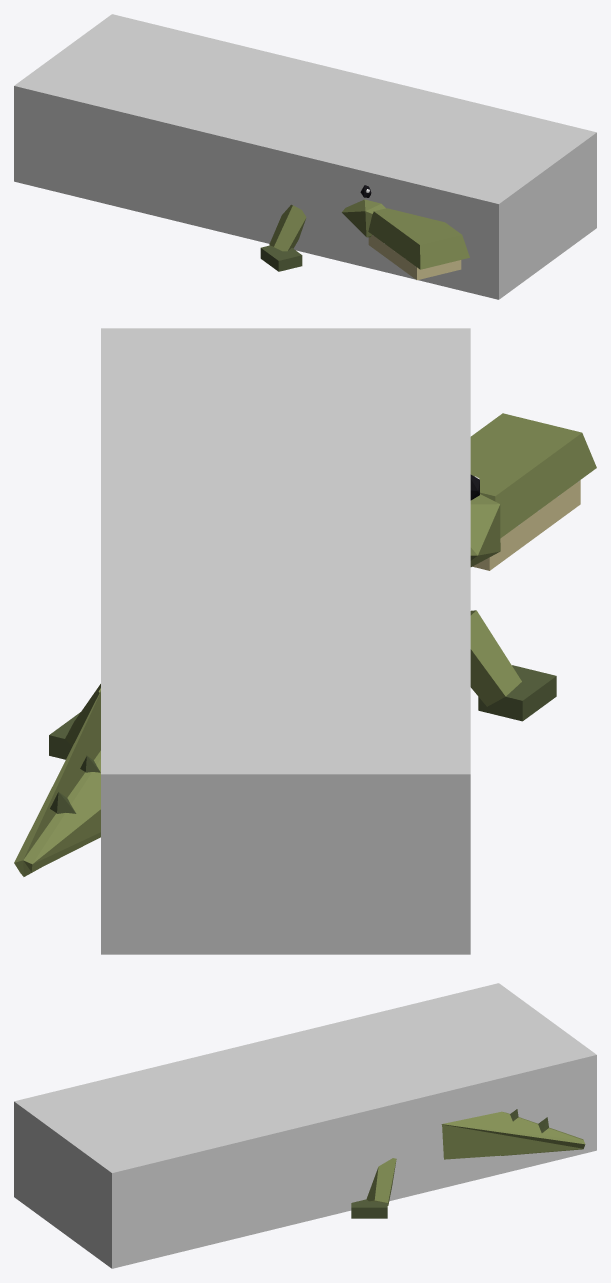
File: desert_crocodile.fbx
The picture shows the model from 3 angles, top to bottom: view 1: azimuth 30°, elevation 25°; view 2: azimuth 150°, elevation 25°; view 3: azimuth 270°, elevation 25°; orthographic projection. The views are drawn at different scales.
Parts seen in each view (by area): view 1: Root__0.00_0.66_-0.01__2.45_1.32_7.00, Head__Body__0.00_0.72_-1.51, LegFR__Body__0.68_0.57_-1.06; view 2: Root__0.00_0.66_-0.01__2.45_1.32_7.00, Head__Body__0.00_0.72_-1.51, Tail__Body__0.00_0.72_1.58, LegFR__Body__0.68_0.57_-1.06, LegBL__Body__-0.68_0.57_0.98; view 3: Root__0.00_0.66_-0.01__2.45_1.32_7.00, Tail__Body__0.00_0.72_1.58, LegBL__Body__-0.68_0.57_0.98.
Part boxes in pixels (bbox=[...]): Root__0.00_0.66_-0.01__2.45_1.32_7.00: bbox=[14, 14, 596, 299]; Head__Body__0.00_0.72_-1.51: bbox=[342, 185, 469, 280]; LegFR__Body__0.68_0.57_-1.06: bbox=[260, 204, 306, 271]; Root__0.00_0.66_-0.01__2.45_1.32_7.00: bbox=[101, 328, 470, 954]; Head__Body__0.00_0.72_-1.51: bbox=[470, 413, 596, 570]; Tail__Body__0.00_0.72_1.58: bbox=[14, 691, 100, 876]; LegFR__Body__0.68_0.57_-1.06: bbox=[470, 610, 556, 721]; LegBL__Body__-0.68_0.57_0.98: bbox=[49, 684, 100, 759]; Root__0.00_0.66_-0.01__2.45_1.32_7.00: bbox=[14, 983, 596, 1268]; Tail__Body__0.00_0.72_1.58: bbox=[441, 1109, 585, 1159]; LegBL__Body__-0.68_0.57_0.98: bbox=[351, 1158, 396, 1218].
Bounding box in the file's own units: 157 × 38.29 × 204.
1 material, 1 textured.
